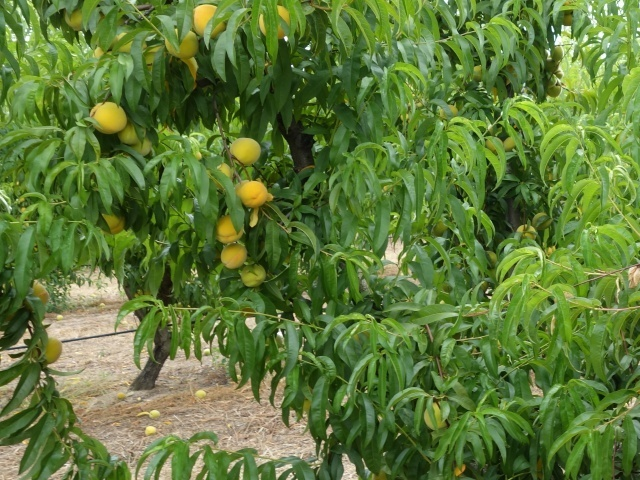peach: (85, 98, 130, 136), (161, 24, 201, 62), (257, 3, 296, 39), (185, 2, 224, 37), (226, 133, 265, 166), (214, 212, 246, 250), (421, 397, 452, 436), (234, 179, 274, 208), (35, 336, 66, 369), (219, 240, 252, 270), (60, 4, 90, 34), (26, 276, 53, 309), (239, 264, 271, 290), (101, 209, 128, 237)
